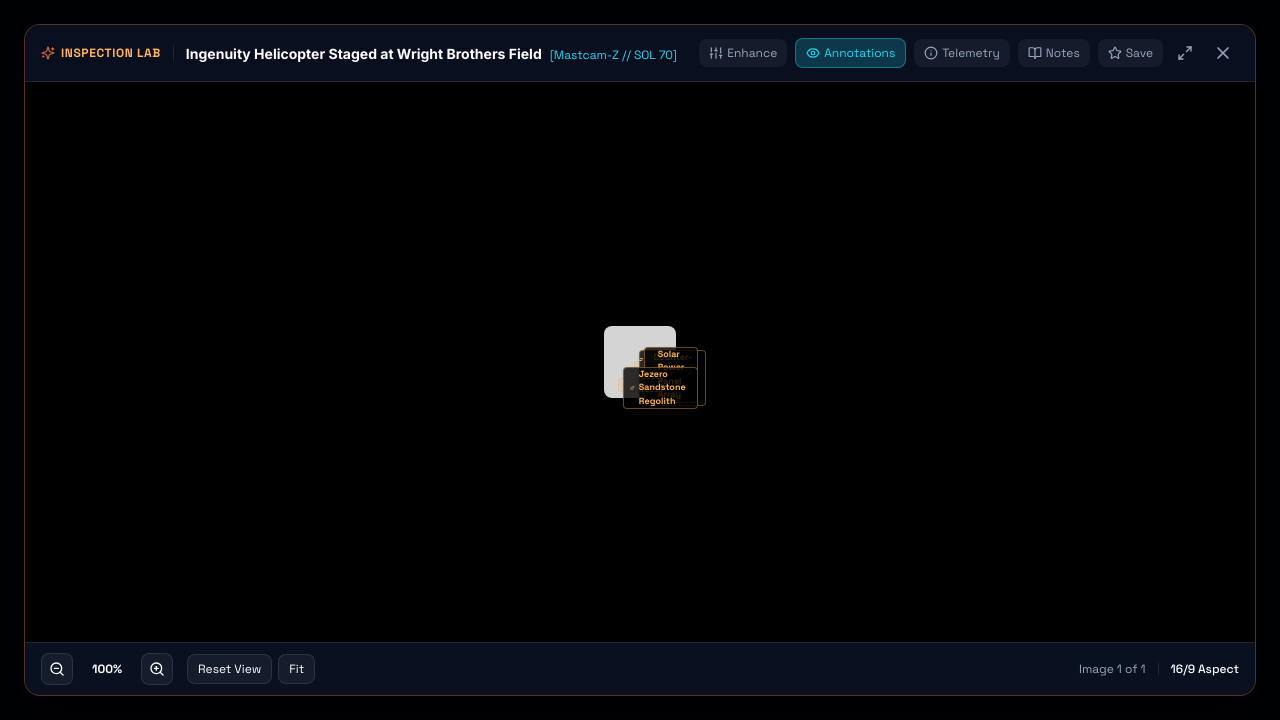
Phase 4 — Mars Rover Explorer Test Suite › Requirement 8: zoom in and zoom out controls update inspection magnification percentage
Expected: the text "100%" is shown, [92, 661, 122, 677]
Click the button titled "Zoom In". click: (157, 669)
box: [141, 653, 173, 685]
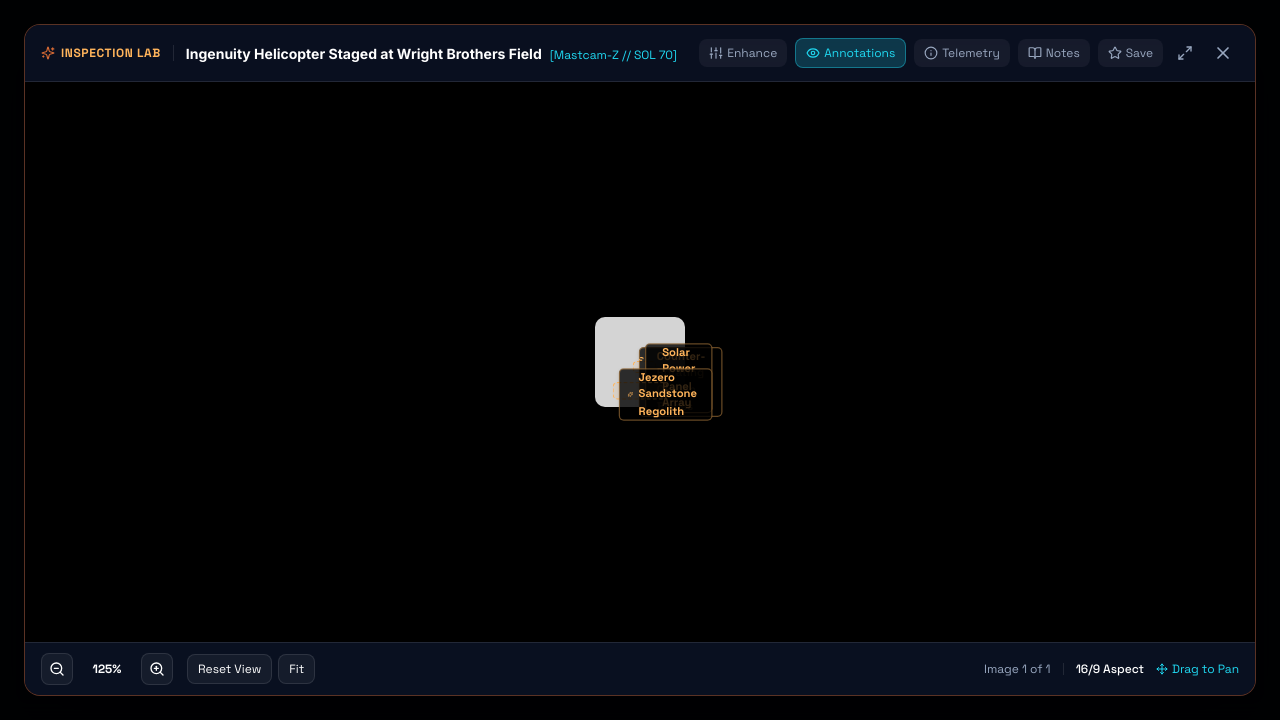
Expected: the text "125%" is shown, [93, 661, 122, 677]
Click the button titled "Zoom In". click: (157, 669)
box: [141, 653, 173, 685]
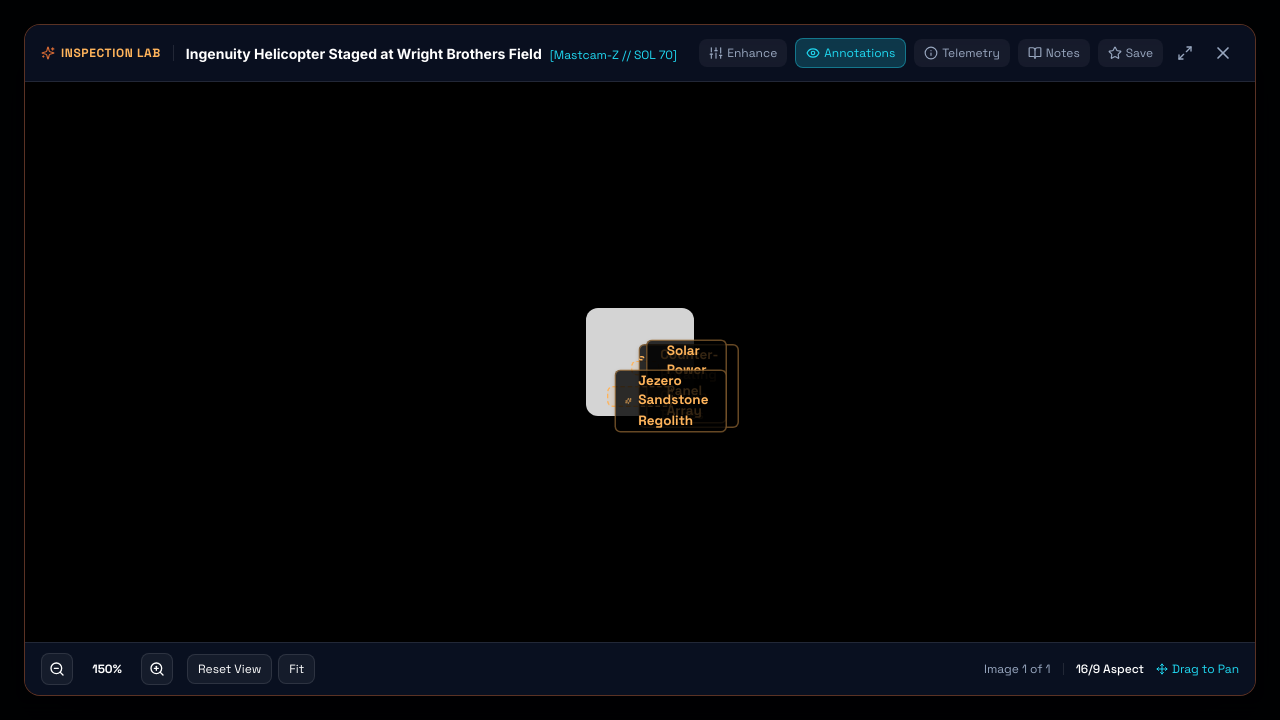
Expected: the text "150%" is shown, [92, 661, 122, 677]
Click the button titled "Zoom Out". click: (57, 669)
box: [41, 653, 73, 685]
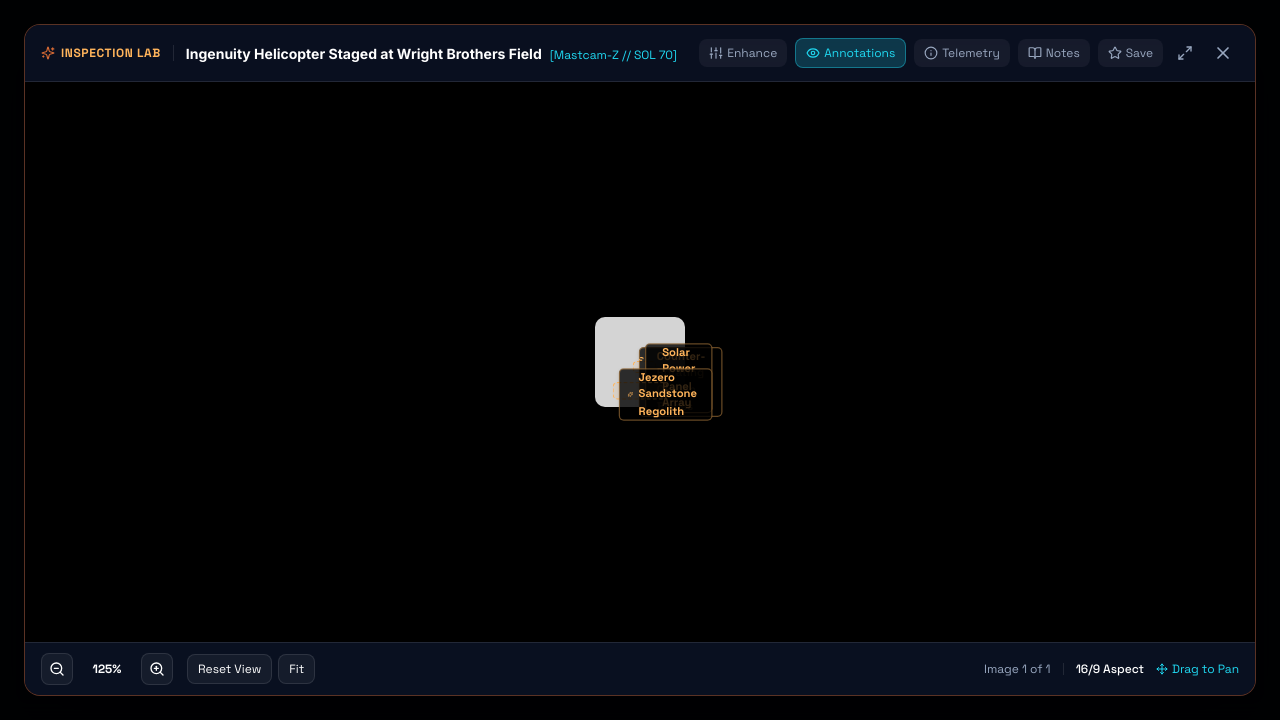
Expected: the text "125%" is shown, [93, 661, 122, 677]
